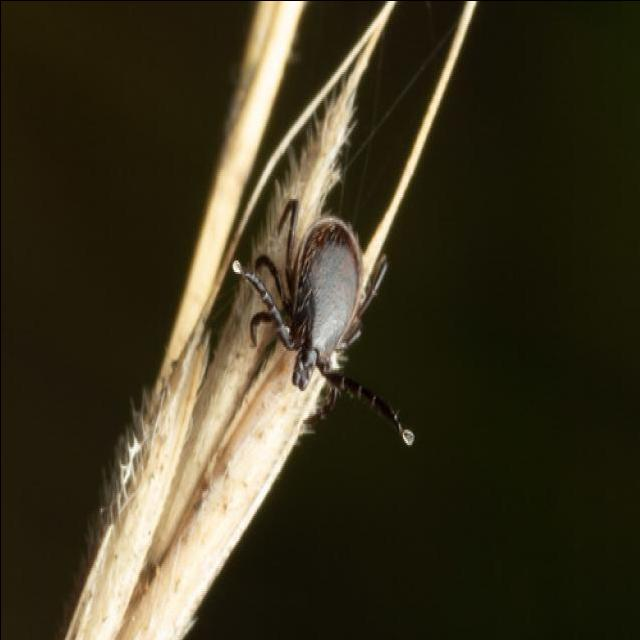Ixodes Ricinus-M: (232, 198, 413, 444)
